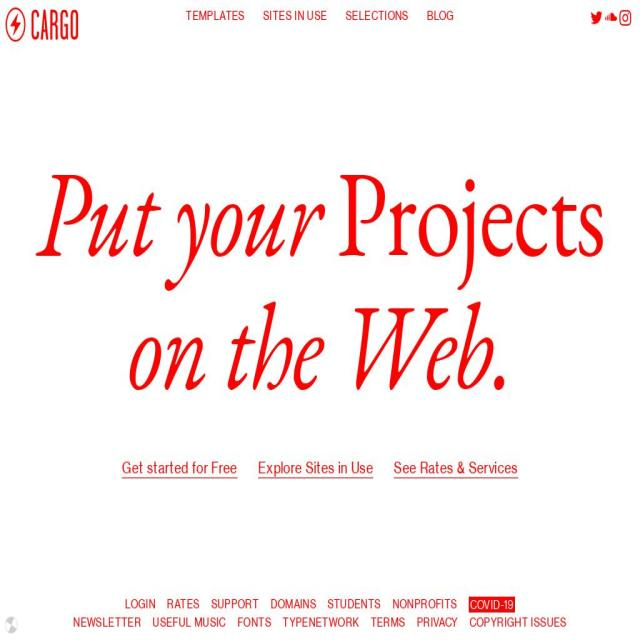button: (394, 458, 518, 479), (122, 458, 238, 479), (258, 458, 373, 479)
image: (6, 8, 78, 42), (2, 613, 16, 631)
link: (469, 614, 567, 631), (282, 614, 360, 631), (152, 614, 227, 631), (73, 614, 142, 631), (263, 8, 328, 24), (392, 596, 457, 612), (346, 8, 410, 24), (186, 8, 246, 24), (328, 596, 382, 612), (210, 596, 258, 612), (270, 596, 316, 612), (417, 614, 458, 631), (370, 614, 406, 631), (237, 614, 272, 631), (167, 596, 200, 612), (125, 596, 156, 612), (427, 8, 455, 24), (588, 10, 604, 28), (618, 10, 634, 28), (604, 10, 618, 28)
text: (320, 149, 604, 492), (128, 266, 513, 425), (35, 132, 320, 292), (468, 596, 515, 612)
